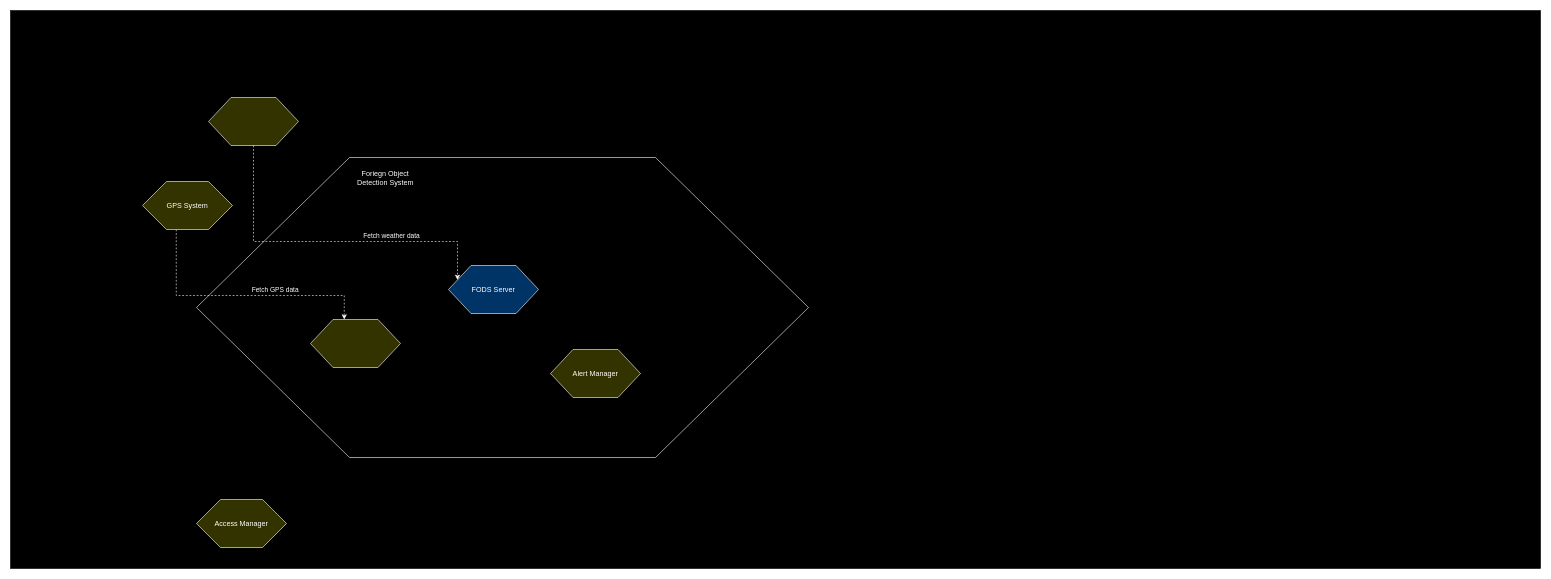
This 1551x579 diagram has some shape labels left out. Each missing label, with the centre of its shape:
"Sensors" belongs at point 355,343.
"Weather System" belongs at point 253,121.
